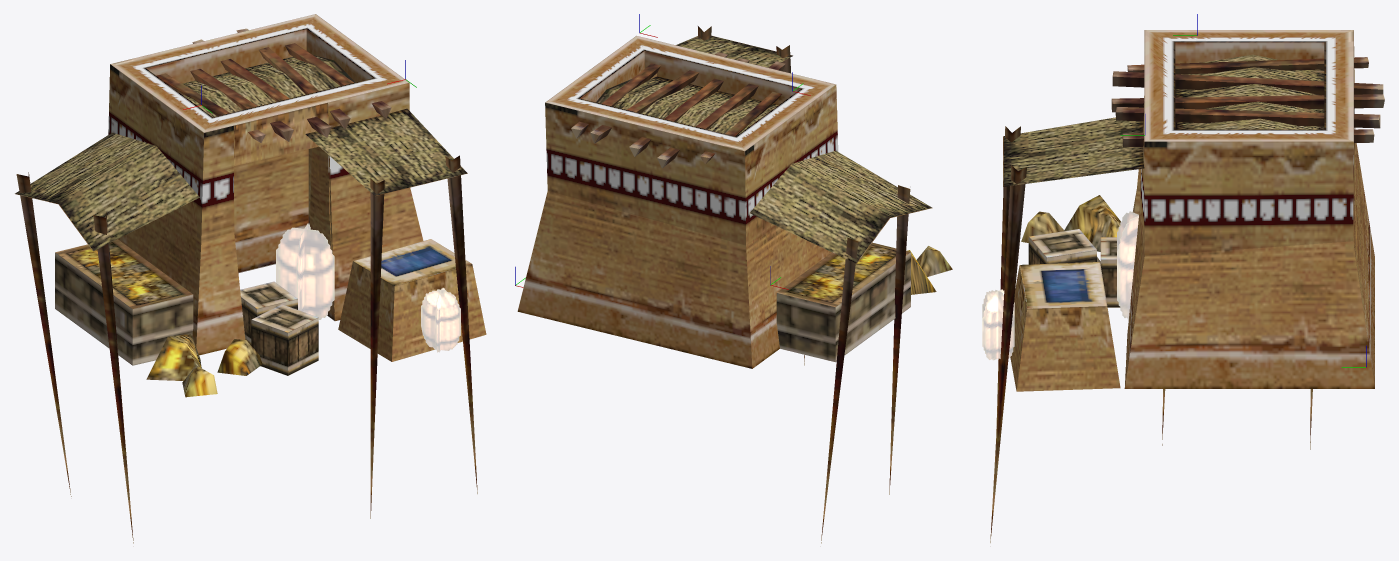
The model's file is egyptian-mining-camp.glb.
The picture shows the model from 3 angles, left to right: view 1: azimuth 30°, elevation 25°; view 2: azimuth 150°, elevation 25°; view 3: azimuth 270°, elevation 25°; orthographic projection. The views are drawn at different scales.
Parts seen in each view (by area): view 1: building e mining camp age 1Model; view 2: building e mining camp age 1Model; view 3: building e mining camp age 1Model.
Part boxes in pixels (<box>): building e mining camp age 1Model: <box>15,14,486,543</box>; building e mining camp age 1Model: <box>517,26,952,543</box>; building e mining camp age 1Model: <box>982,30,1384,542</box>.
Size of the model in its own units: 4.47 by 5.48 by 4.17.
6 materials, 5 textured.
